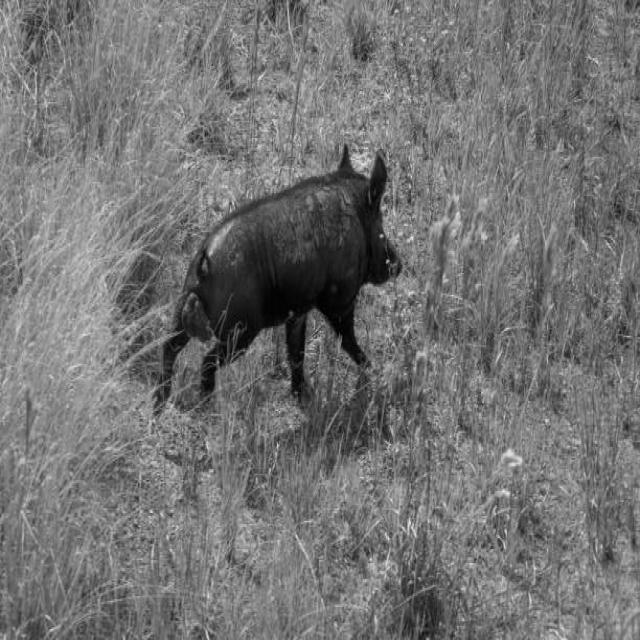boar: (155, 144, 403, 412)
